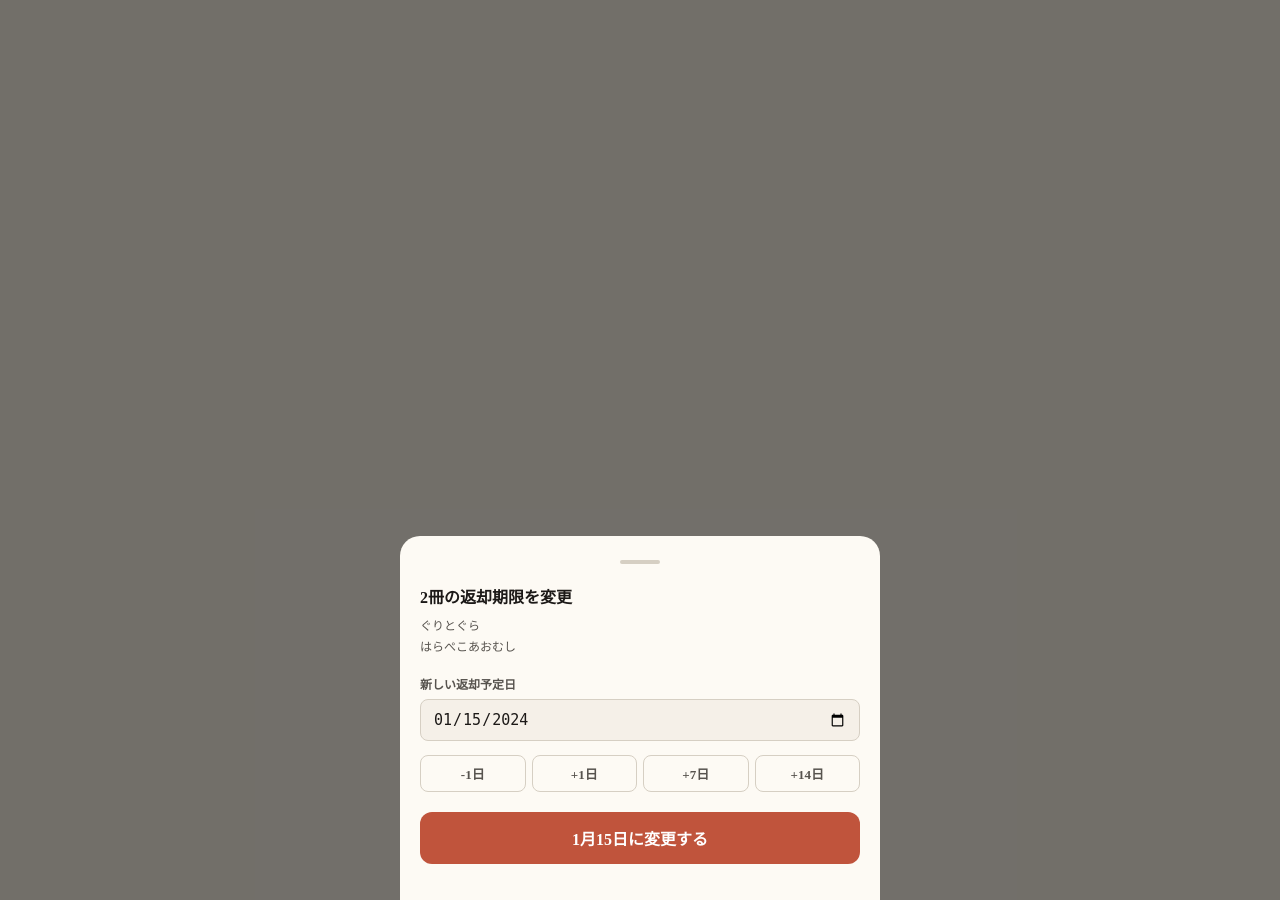
Test: DueDateSheet › when the -1日 shortcut is tapped, it should move the due date one day earlier
Click the button "-1日" at [473, 774], box [420,755,526,792]
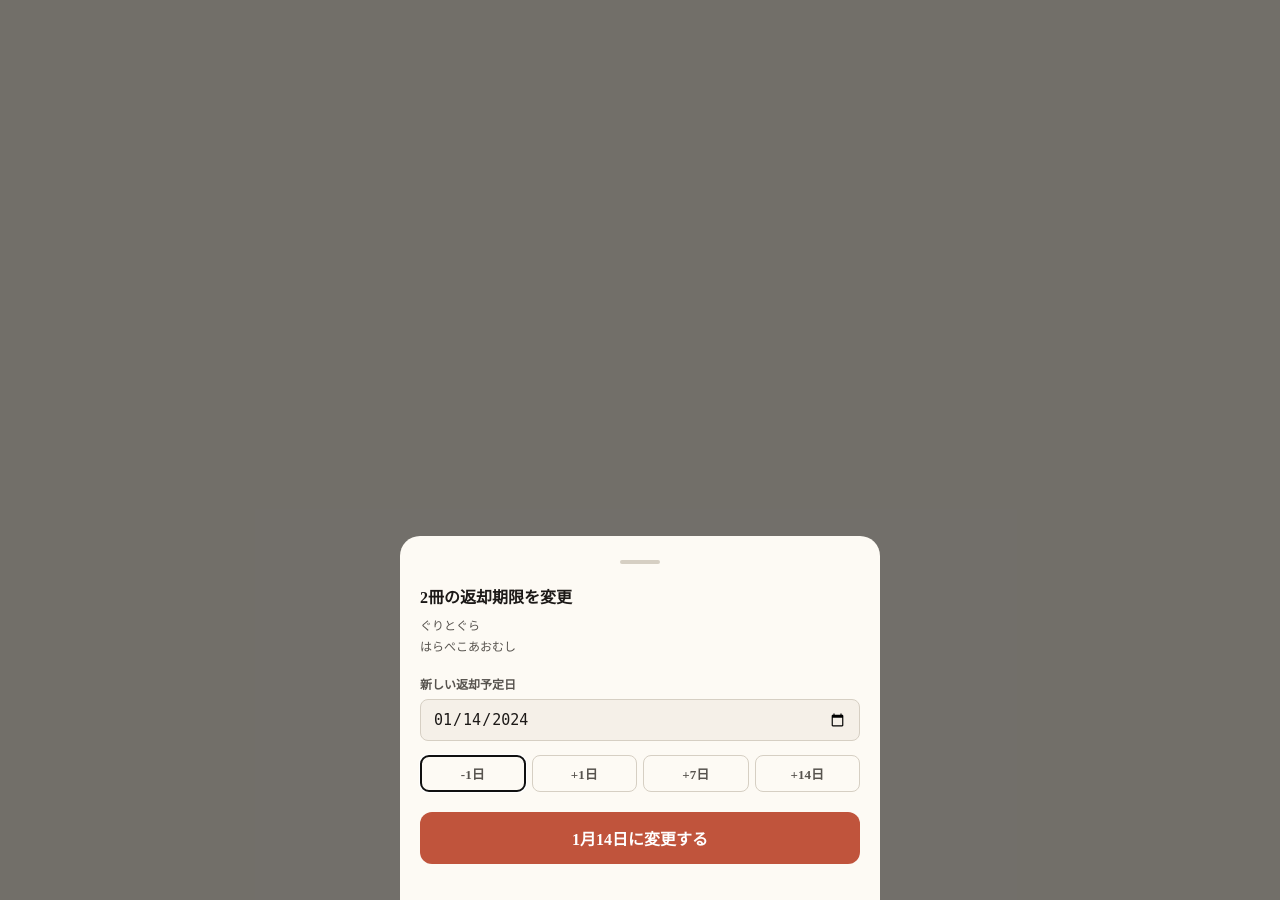
Expected: the date field labelled "新しい返却予定日" holds "2024-01-14", [420,699,860,741]
